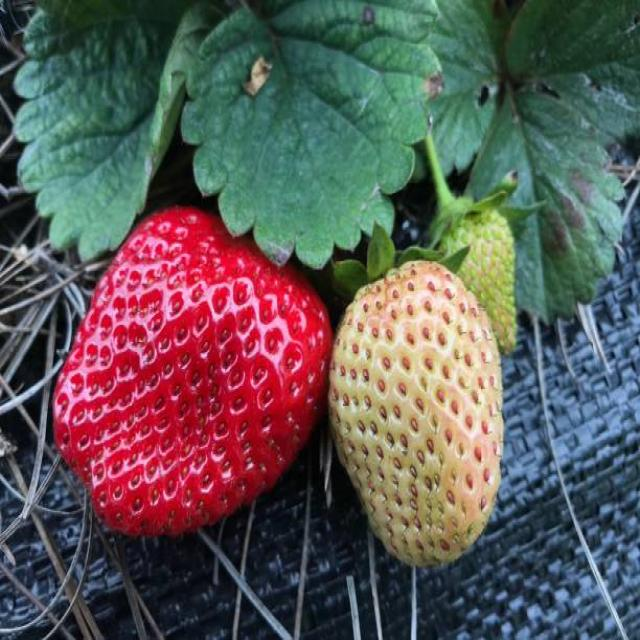Healthy Fruit: (53, 205, 333, 531), (330, 260, 505, 564)
